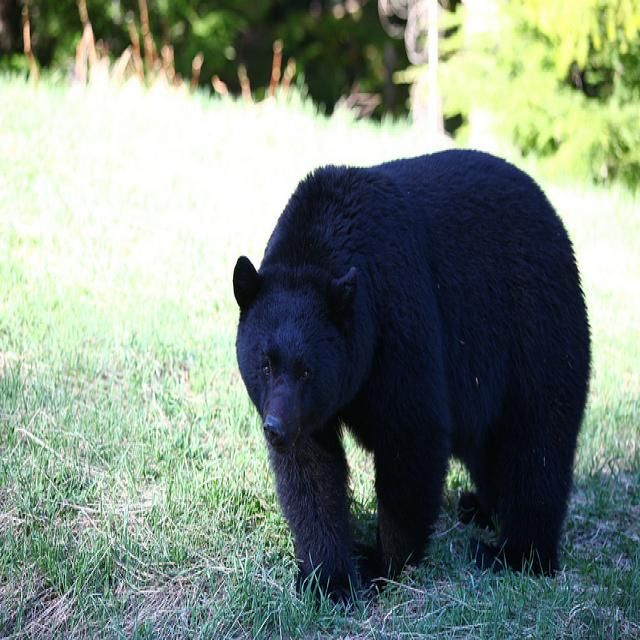Bear: (227, 127, 582, 580)
